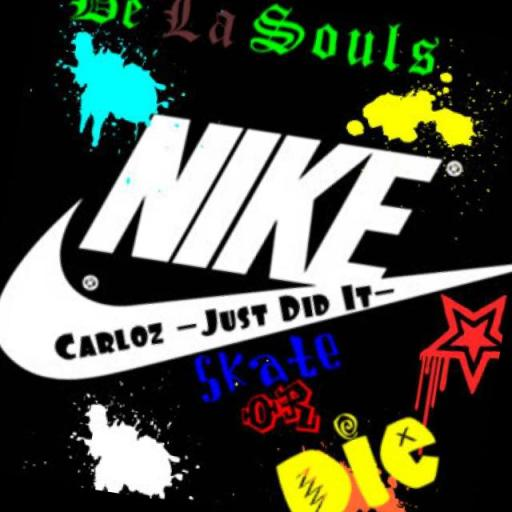Nike: (0, 209, 470, 442), (78, 104, 444, 306)
